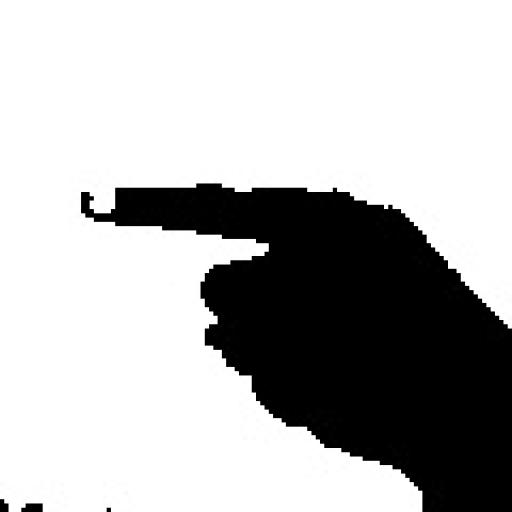index_left: (79, 180, 512, 424)
